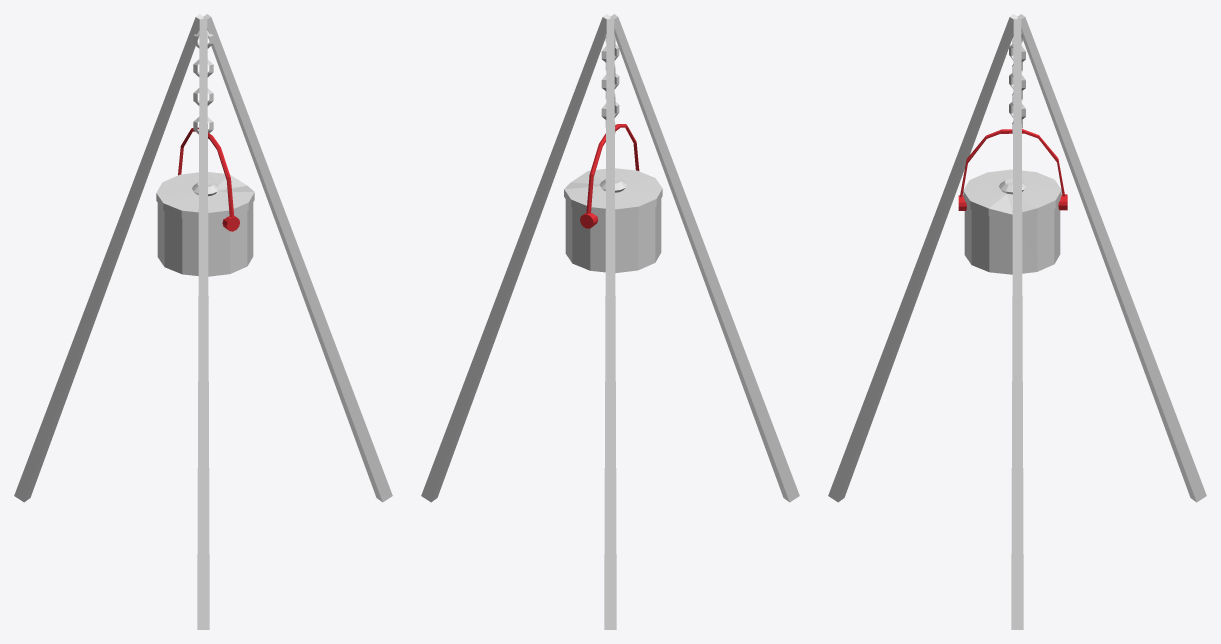
File: CookingPot.fbx
3 views of the same model, side by side, from view 1: azimuth 30°, elevation 25°; view 2: azimuth 150°, elevation 25°; view 3: azimuth 270°, elevation 25° (orthographic).
Parts seen in each view (by area): view 1: CampfireTripod; view 2: CampfireTripod; view 3: CampfireTripod.
Part boxes in pixels (x1,y1,x2,y2): CampfireTripod: (14, 14, 392, 629); CampfireTripod: (421, 14, 799, 629); CampfireTripod: (828, 14, 1206, 629).
Size of the model in its own units: 56.29 by 99.64 by 65.
